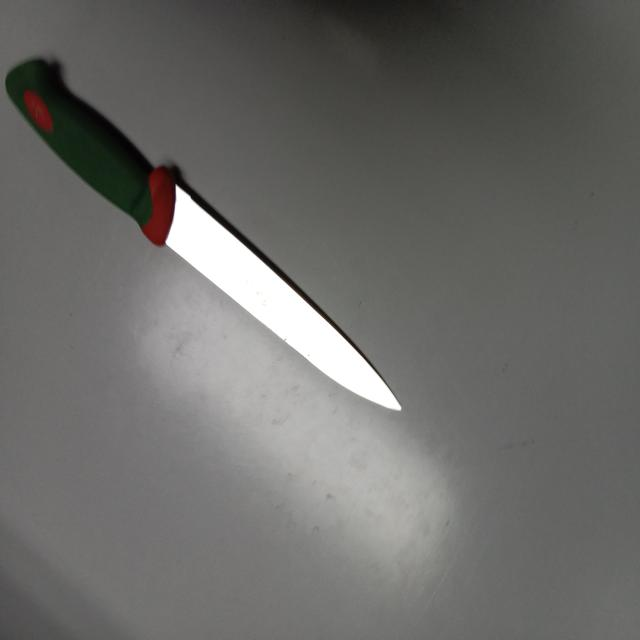Knife: (4, 58, 400, 410)
